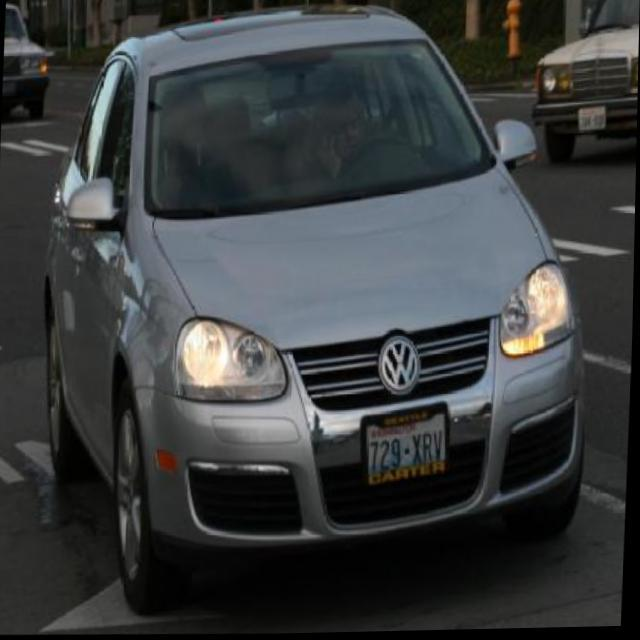license_plate: (358, 400, 454, 494), (578, 108, 606, 133), (2, 78, 16, 94)
